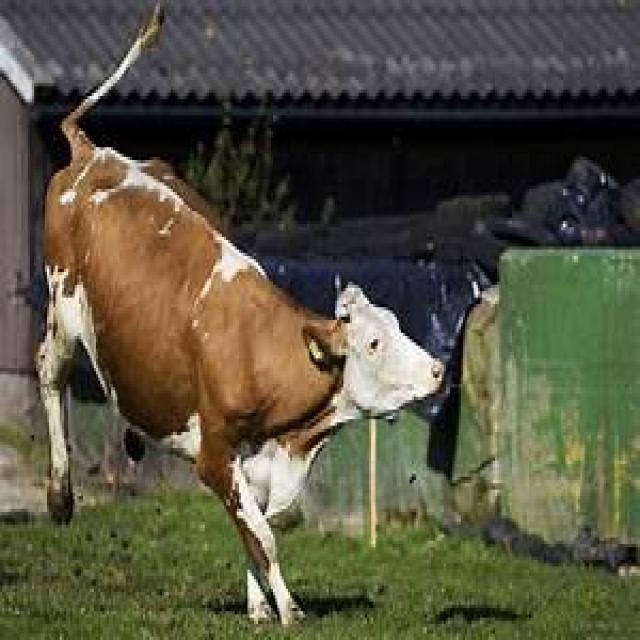cow: (36, 96, 446, 624)
